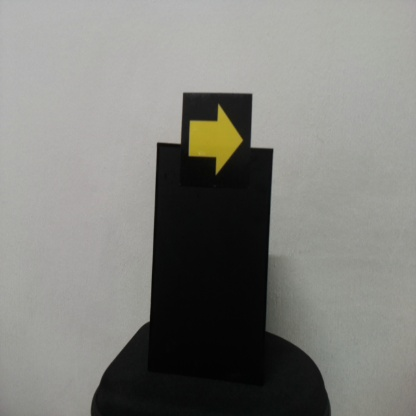id_3: (183, 93, 251, 184)
